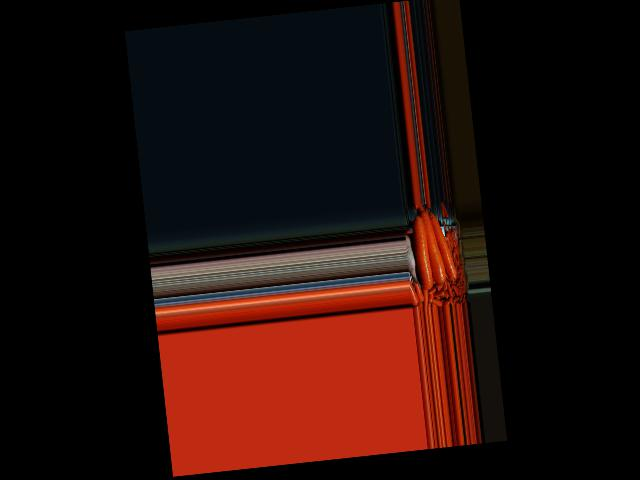carrot: (411, 212, 437, 291)
